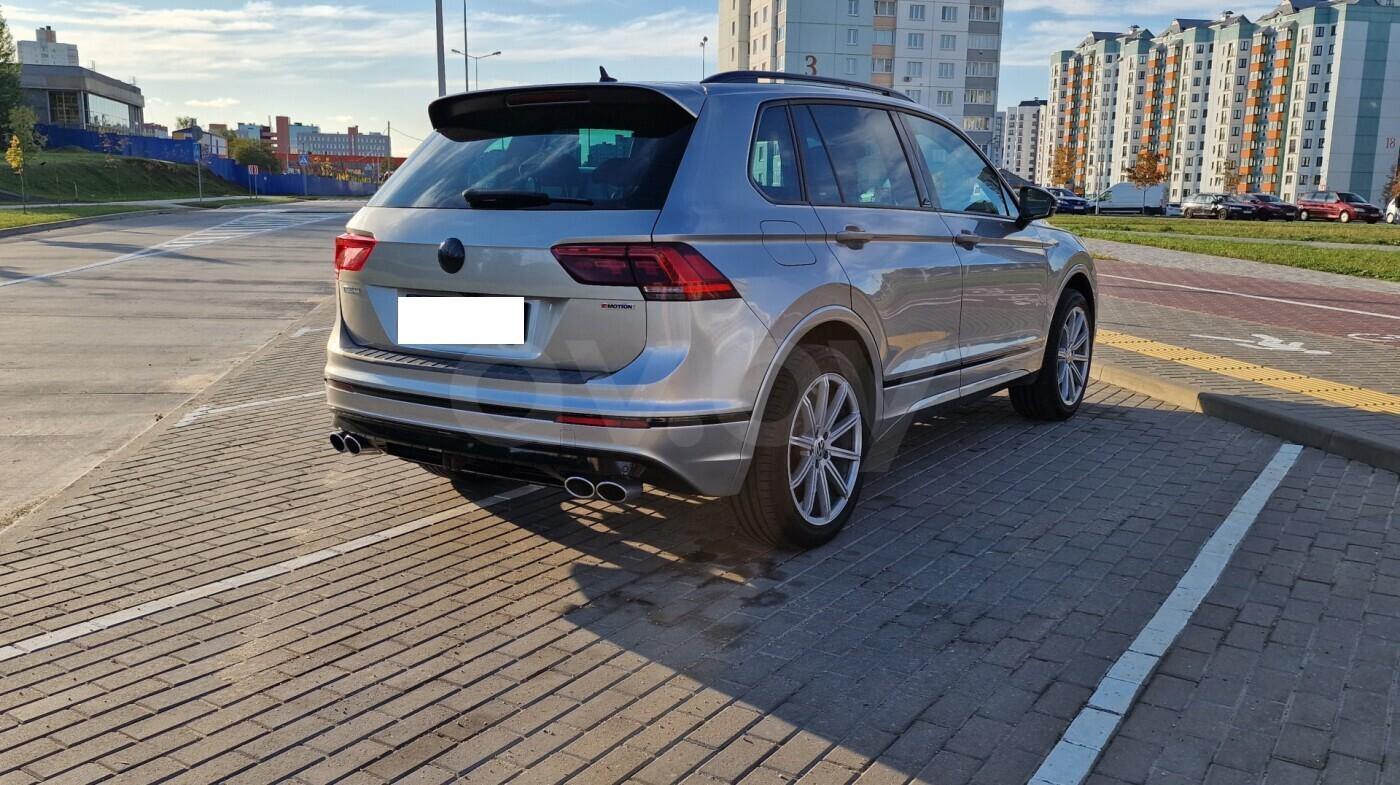Tiguan_2016-2021: (319, 75, 1100, 547)
